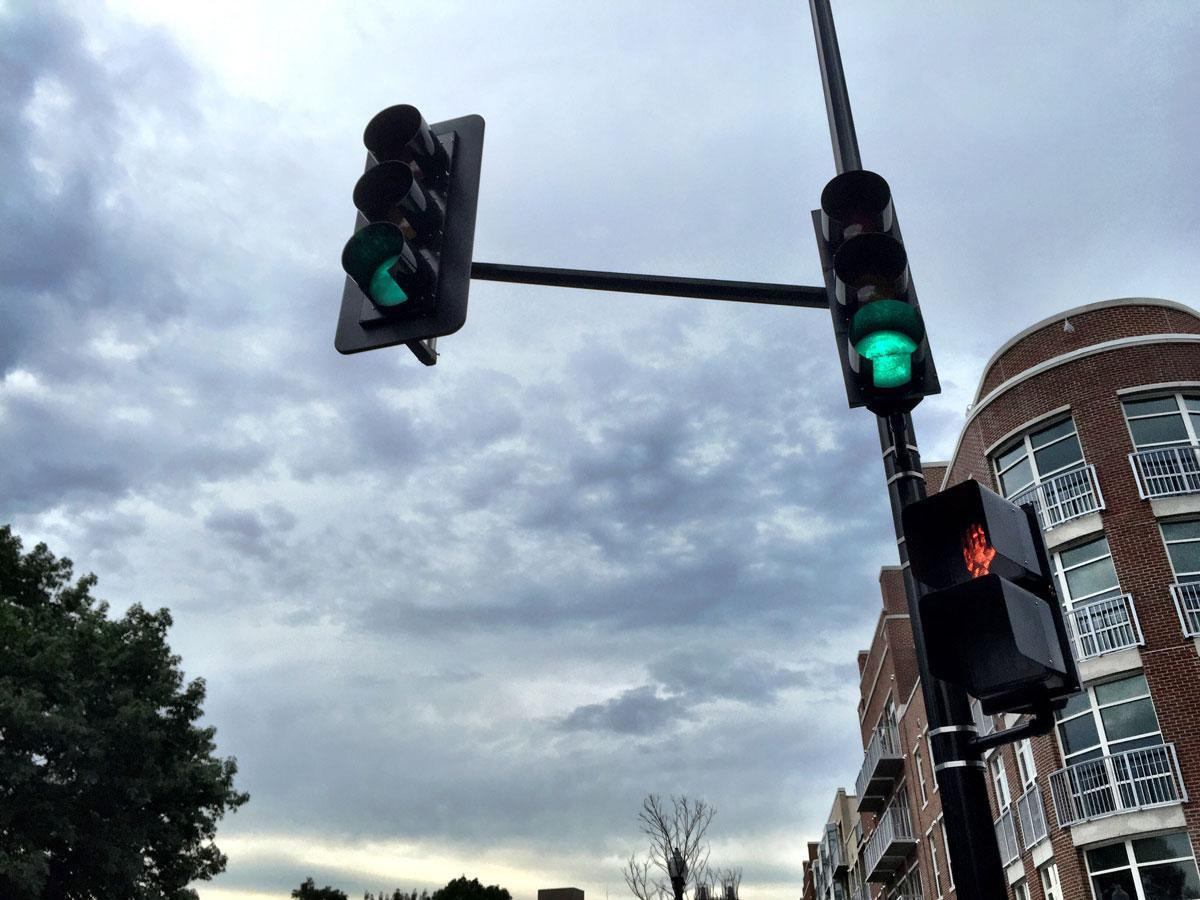green: (322, 95, 482, 355)
